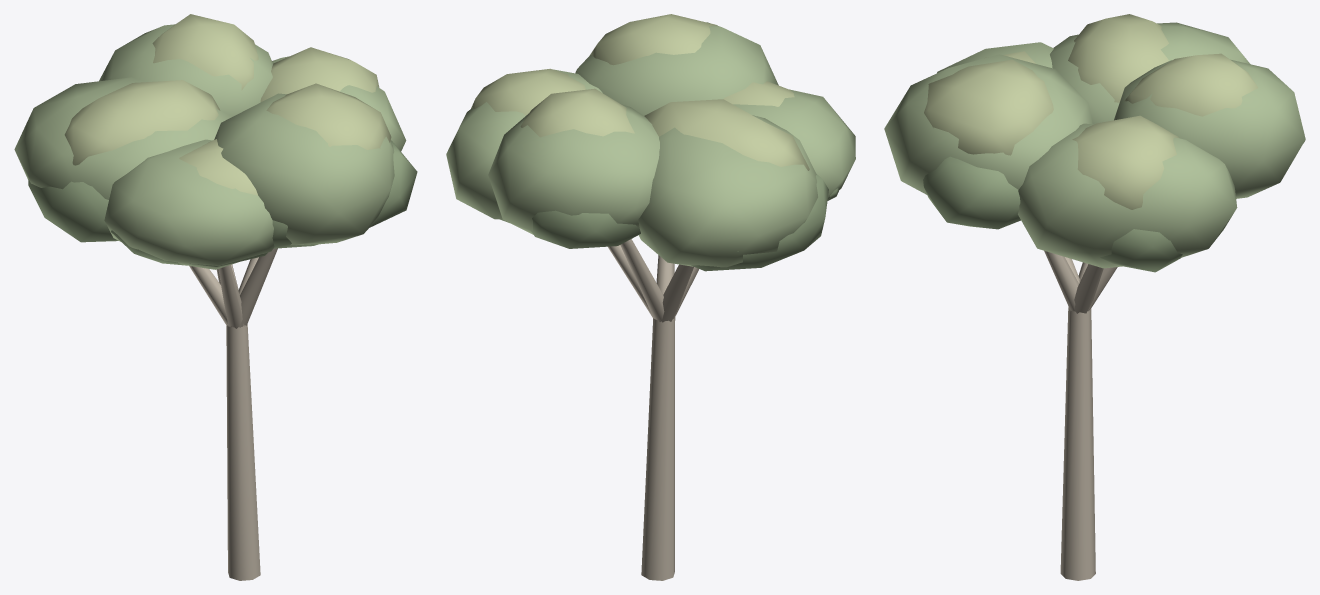
Rendered from tree_eucalyptus_8.glb.
3 views of the same model, side by side, from view 1: azimuth 30°, elevation 25°; view 2: azimuth 150°, elevation 25°; view 3: azimuth 270°, elevation 25° (orthographic). The views are drawn at different scales.
Visible parts, largest first — view 1: tree_eucalyptus_8.glb; view 2: tree_eucalyptus_8.glb; view 3: tree_eucalyptus_8.glb.
Part boxes in pixels (bbox=[...]): tree_eucalyptus_8.glb: bbox=[14, 14, 417, 580]; tree_eucalyptus_8.glb: bbox=[446, 14, 855, 580]; tree_eucalyptus_8.glb: bbox=[884, 14, 1305, 580].
Size of the model in its own units: 5.37 by 7.56 by 5.49.
